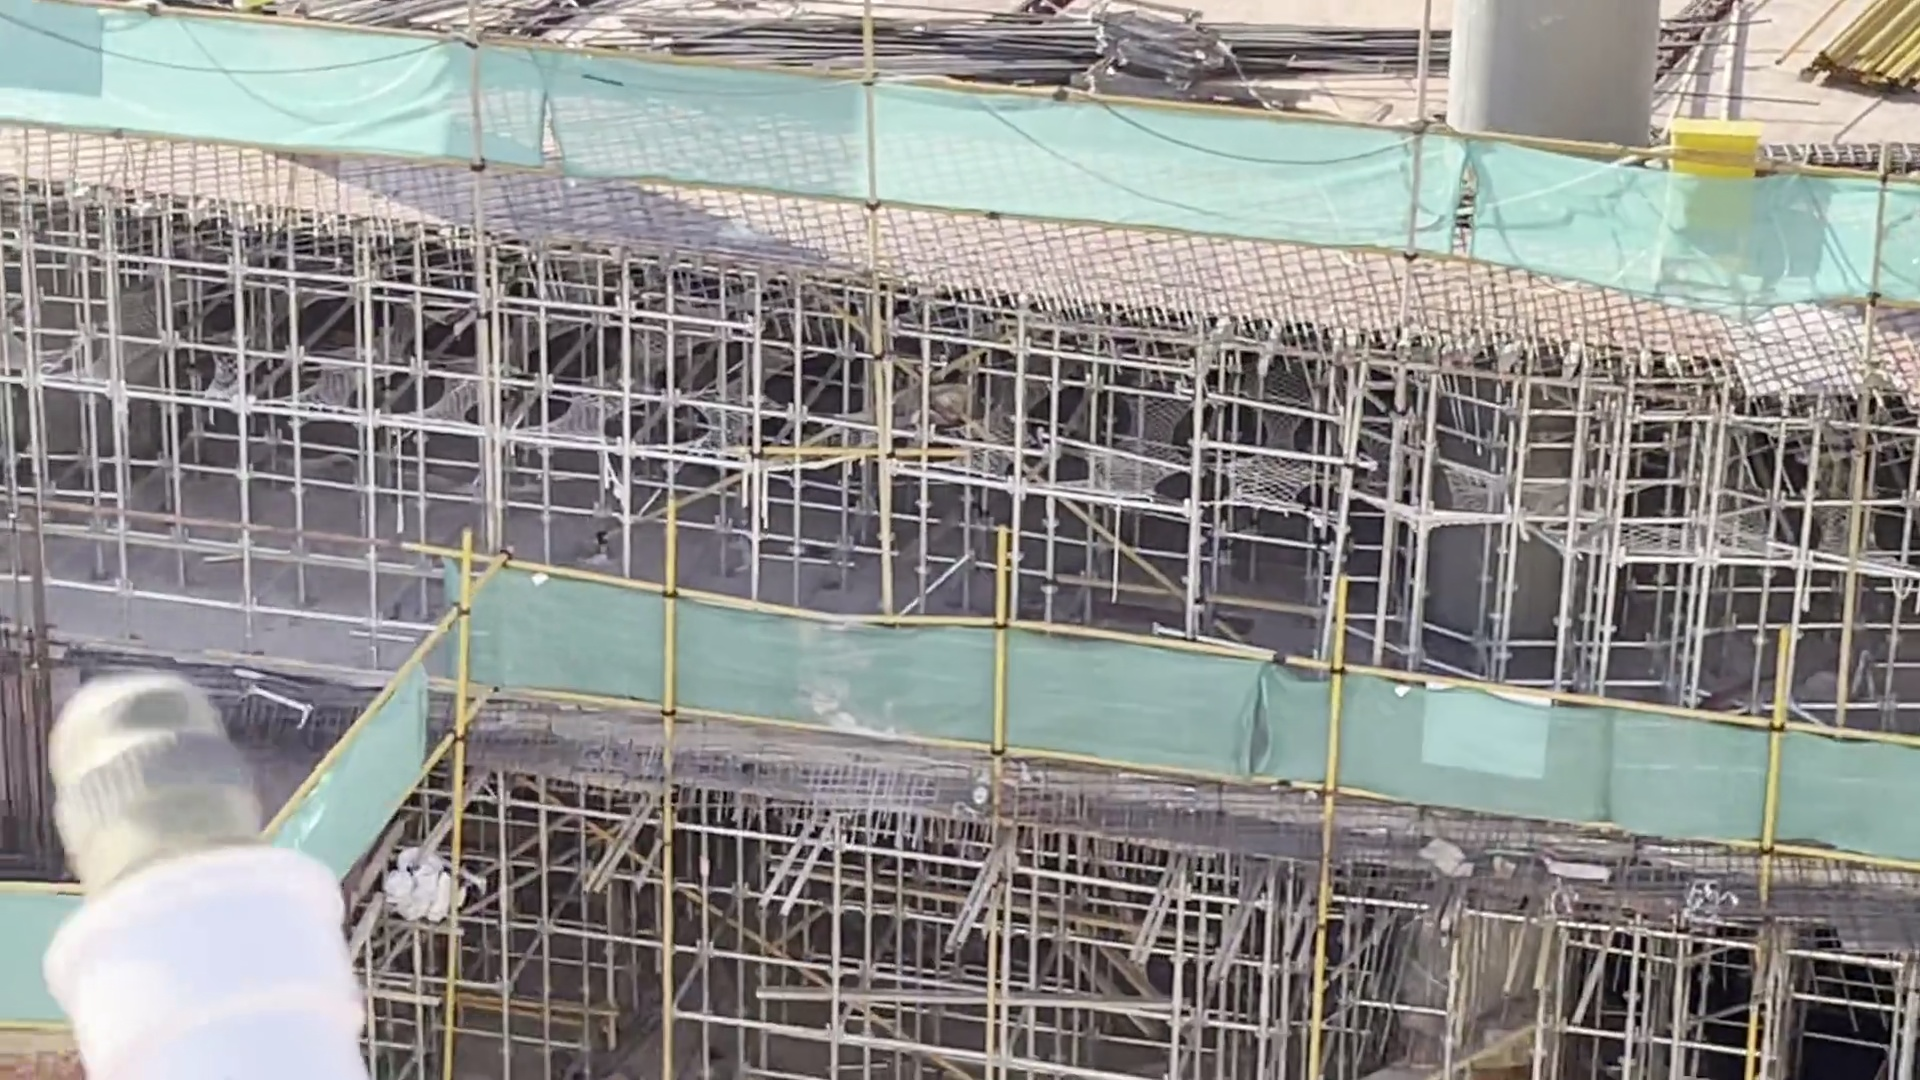ebox: (1663, 113, 1774, 265)
